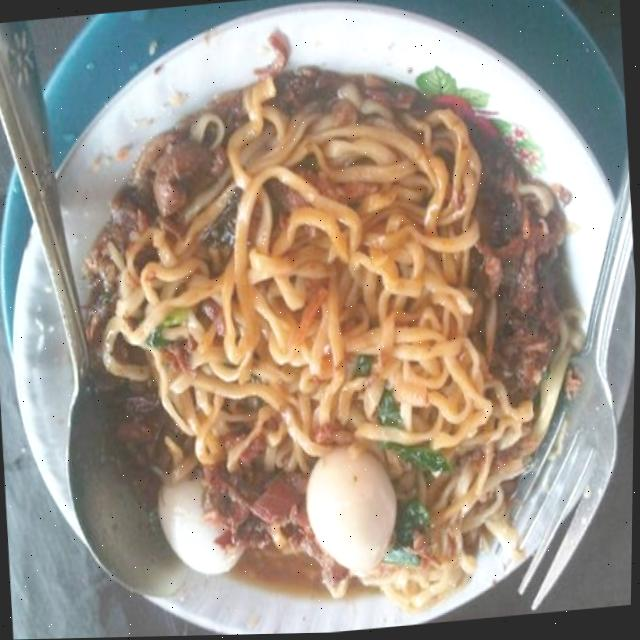面条主食: (0, 1, 629, 640)
